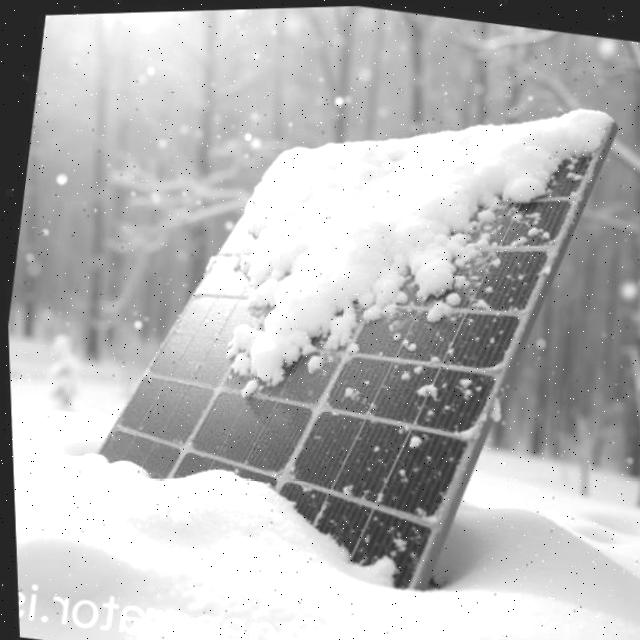Anomaly Solar Panel: (77, 5, 610, 612)
Snow: (203, 106, 640, 396), (77, 420, 423, 601), (389, 338, 460, 389), (332, 368, 389, 427), (380, 313, 425, 361), (446, 369, 482, 400), (399, 427, 427, 452), (418, 382, 438, 401)
